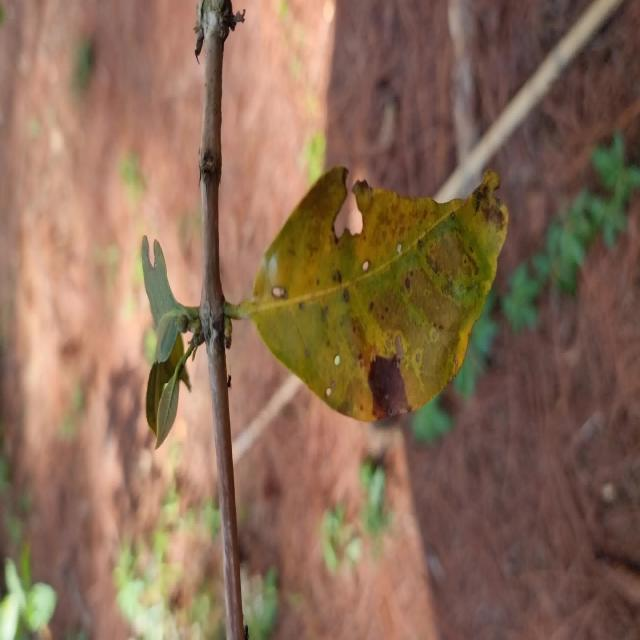leaves: (222, 108, 528, 447)
